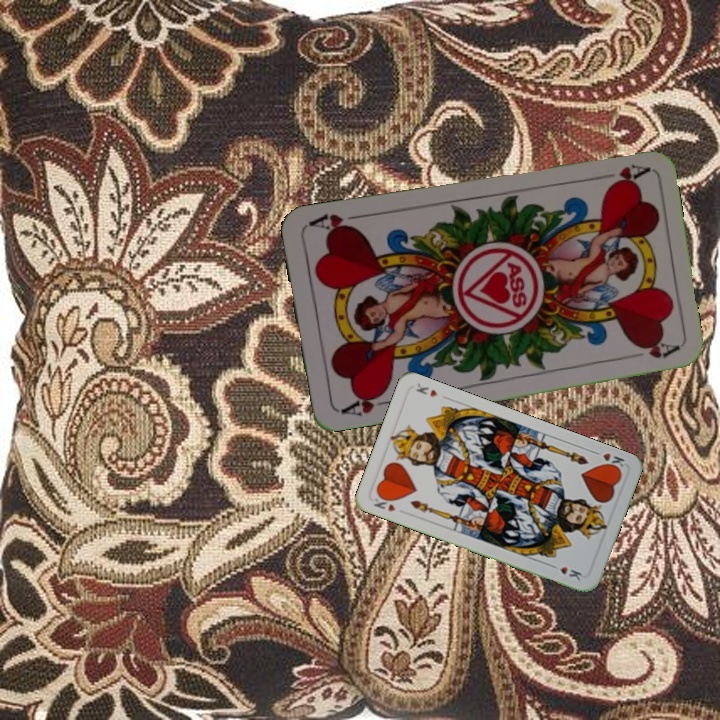HA: (334, 387, 393, 419), (591, 160, 650, 191)
HK: (588, 447, 628, 473), (370, 491, 398, 514)
